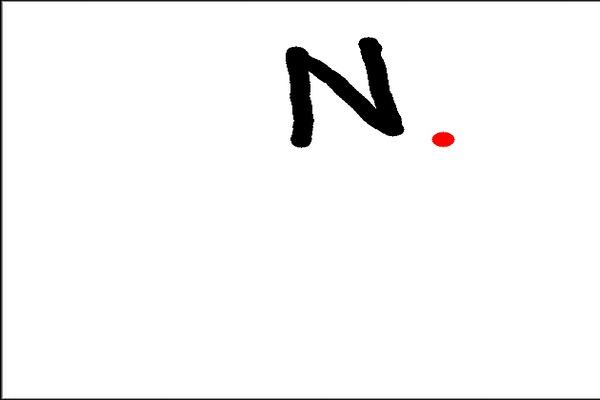N: (276, 32, 413, 151)
